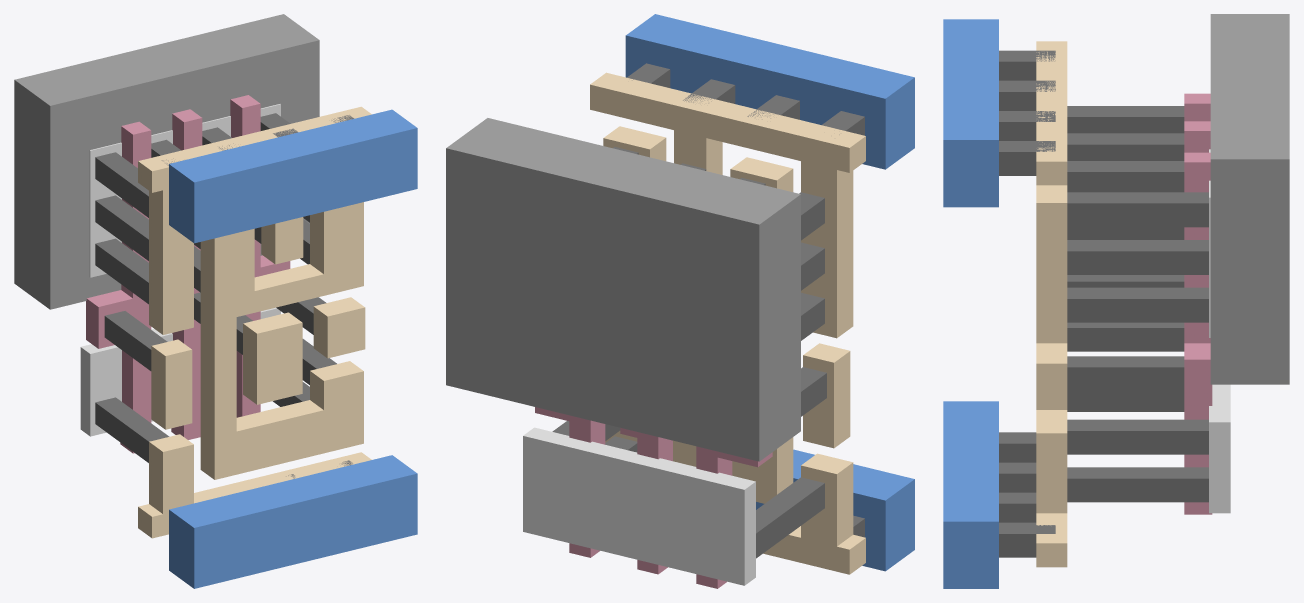
Rendered from sky130_fd_sc_hd__nand3_1.gds.gltf.
3 views of the same model, side by side, from view 1: azimuth 30°, elevation 25°; view 2: azimuth 150°, elevation 25°; view 3: azimuth 270°, elevation 25° (orthographic). The views are drawn at different scales.
Visible parts, largest first — view 1: sky130_fd_sc_hd__nand3_1_li1, sky130_fd_sc_hd__nand3_1_met1, sky130_fd_sc_hd__nand3_1_nwell, sky130_fd_sc_hd__nand3_1_licon, sky130_fd_sc_hd__nand3_1_poly, sky130_fd_sc_hd__nand3_1_diff; view 2: sky130_fd_sc_hd__nand3_1_nwell, sky130_fd_sc_hd__nand3_1_li1, sky130_fd_sc_hd__nand3_1_diff, sky130_fd_sc_hd__nand3_1_met1, sky130_fd_sc_hd__nand3_1_licon, sky130_fd_sc_hd__nand3_1_poly, sky130_fd_sc_hd__nand3_1_mcon; view 3: sky130_fd_sc_hd__nand3_1_licon, sky130_fd_sc_hd__nand3_1_nwell, sky130_fd_sc_hd__nand3_1_met1, sky130_fd_sc_hd__nand3_1_li1, sky130_fd_sc_hd__nand3_1_mcon, sky130_fd_sc_hd__nand3_1_poly, sky130_fd_sc_hd__nand3_1_diff.
Part boxes in pixels (bbox=[...]): sky130_fd_sc_hd__nand3_1_li1: bbox=[138, 106, 371, 538]; sky130_fd_sc_hd__nand3_1_met1: bbox=[169, 109, 417, 588]; sky130_fd_sc_hd__nand3_1_nwell: bbox=[14, 14, 319, 309]; sky130_fd_sc_hd__nand3_1_licon: bbox=[95, 113, 336, 462]; sky130_fd_sc_hd__nand3_1_poly: bbox=[86, 95, 290, 453]; sky130_fd_sc_hd__nand3_1_diff: bbox=[80, 104, 280, 436]; sky130_fd_sc_hd__nand3_1_nwell: bbox=[446, 118, 800, 461]; sky130_fd_sc_hd__nand3_1_li1: bbox=[590, 72, 865, 574]; sky130_fd_sc_hd__nand3_1_diff: bbox=[523, 427, 755, 585]; sky130_fd_sc_hd__nand3_1_met1: bbox=[625, 14, 914, 571]; sky130_fd_sc_hd__nand3_1_licon: bbox=[552, 147, 826, 558]; sky130_fd_sc_hd__nand3_1_poly: bbox=[535, 407, 772, 588]; sky130_fd_sc_hd__nand3_1_mcon: bbox=[627, 63, 864, 537]; sky130_fd_sc_hd__nand3_1_licon: bbox=[1067, 106, 1208, 502]; sky130_fd_sc_hd__nand3_1_nwell: bbox=[1210, 14, 1289, 384]; sky130_fd_sc_hd__nand3_1_met1: bbox=[943, 19, 998, 588]; sky130_fd_sc_hd__nand3_1_li1: bbox=[1036, 41, 1067, 567]; sky130_fd_sc_hd__nand3_1_mcon: bbox=[999, 50, 1055, 557]; sky130_fd_sc_hd__nand3_1_poly: bbox=[1184, 93, 1212, 514]; sky130_fd_sc_hd__nand3_1_diff: bbox=[1209, 149, 1230, 513].
Bounding box in the file's own units: 2.22 × 3.2 × 2.24.
